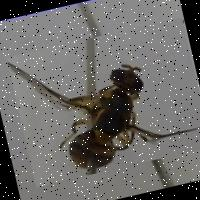Oriental-fruit-fly: (6, 16, 200, 186)
